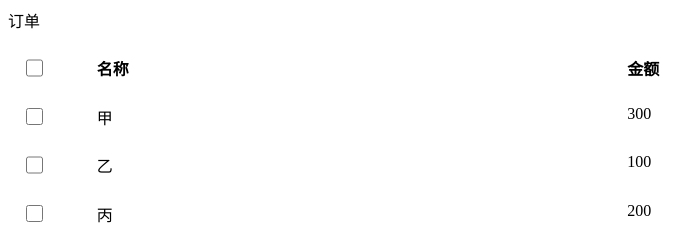
Test: Table › selects rows and supports select-all
Click the checkbox named "全选".
click(34, 68)  # box 26,59 -> 43,77
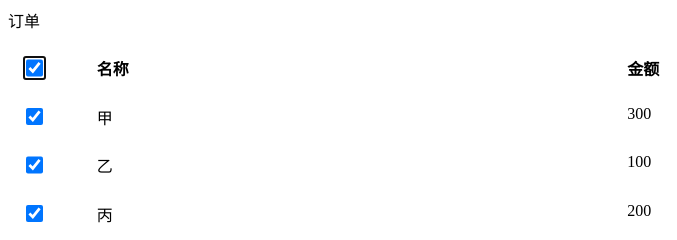
Expected: the checkbox named "选择 A-1" is checked, 26,108 -> 43,125
